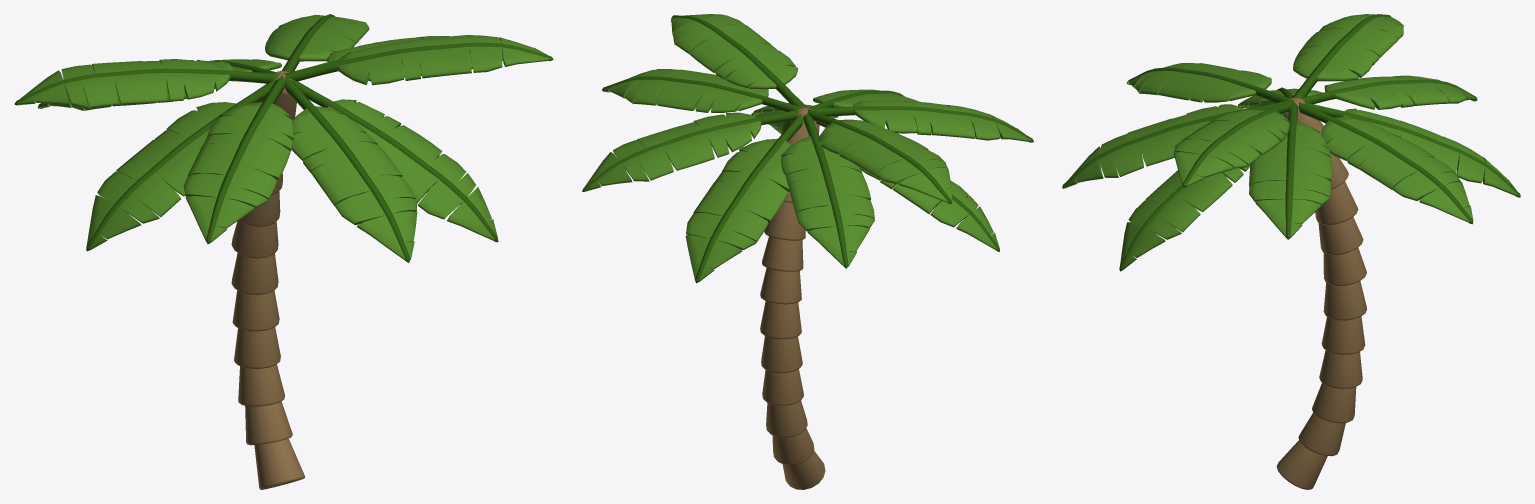
Rendered from palm-tree-1.obj.
The picture shows the model from 3 angles, left to right: view 1: azimuth 30°, elevation 25°; view 2: azimuth 150°, elevation 25°; view 3: azimuth 270°, elevation 25°; orthographic projection. The views are drawn at different scales.
Visible parts, largest first — view 1: Leaf_Cylinder.001, Leaf_Cylinder.005, Leaf_Cylinder.006, Leaf_Cylinder.007, Leaf_Cylinder.004, Leaf_Cylinder.002, Leaf_Cylinder.010, StemSegment.001_StemSegment_Cylinder.011, Core_Cylinder, StemSegment.002_StemSegment_Cylinder.012, StemSegment.003_StemSegment_Cylinder.013, Core_Cylinder.003 (+12 smaller); view 2: Leaf_Cylinder.009, Leaf_Cylinder.008, Leaf_Cylinder.010, Leaf_Cylinder.002, Leaf_Cylinder.007, Leaf_Cylinder.003, Leaf_Cylinder.005, Leaf_Cylinder.006, Core_Cylinder.008, StemSegment.006_StemSegment_Cylinder.016, StemSegment.005_StemSegment_Cylinder.015, StemSegment.007_StemSegment_Cylinder.017 (+13 smaller); view 3: Leaf_Cylinder.010, Leaf_Cylinder.003, Leaf_Cylinder.002, Leaf_Cylinder.004, Leaf_Cylinder.007, Leaf_Cylinder.001, Leaf_Cylinder.005, Leaf_Cylinder.008, Leaf_Cylinder.009, StemSegment.001_StemSegment_Cylinder.011, StemSegment.006_StemSegment_Cylinder.016, StemSegment.005_StemSegment_Cylinder.015 (+14 smaller).
Part boxes in pixels (box(x1,y1,x2,y2)): Leaf_Cylinder.001: box(291, 106, 417, 260); Leaf_Cylinder.005: box(183, 102, 294, 242); Leaf_Cylinder.006: box(86, 102, 236, 250); Leaf_Cylinder.007: box(17, 59, 230, 108); Leaf_Cylinder.004: box(327, 99, 497, 241); Leaf_Cylinder.002: box(336, 35, 551, 85); Leaf_Cylinder.010: box(265, 15, 369, 61); StemSegment.001_StemSegment_Cylinder.011: box(254, 438, 304, 489); Core_Cylinder: box(284, 76, 410, 262); StemSegment.002_StemSegment_Cylinder.012: box(245, 401, 292, 445); StemSegment.003_StemSegment_Cylinder.013: box(238, 364, 284, 406); Core_Cylinder.003: box(291, 79, 498, 242); Leaf_Cylinder.009: box(685, 138, 790, 281); Leaf_Cylinder.008: box(781, 135, 874, 266); Leaf_Cylinder.010: box(584, 112, 761, 191); Leaf_Cylinder.002: box(671, 14, 798, 89); Leaf_Cylinder.007: box(819, 119, 952, 202); Leaf_Cylinder.003: box(602, 69, 768, 112); Leaf_Cylinder.005: box(853, 100, 1032, 142); Leaf_Cylinder.006: box(859, 167, 999, 250); Core_Cylinder.008: box(695, 107, 807, 283); StemSegment.006_StemSegment_Cylinder.016: box(760, 301, 801, 339); StemSegment.005_StemSegment_Cylinder.015: box(761, 336, 802, 373); StemSegment.007_StemSegment_Cylinder.017: box(760, 268, 801, 304); Leaf_Cylinder.010: box(1321, 117, 1473, 222); Leaf_Cylinder.003: box(1249, 122, 1332, 237); Leaf_Cylinder.002: box(1173, 109, 1290, 186); Leaf_Cylinder.004: box(1120, 165, 1250, 269); Leaf_Cylinder.007: box(1293, 14, 1403, 81); Leaf_Cylinder.001: box(1063, 104, 1241, 188); Leaf_Cylinder.005: box(1126, 63, 1271, 102); Leaf_Cylinder.008: box(1324, 75, 1477, 109); Leaf_Cylinder.009: box(1342, 108, 1519, 196); StemSegment.001_StemSegment_Cylinder.011: box(1276, 440, 1327, 489); StemSegment.006_StemSegment_Cylinder.016: box(1323, 281, 1366, 320); StemSegment.005_StemSegment_Cylinder.015: box(1321, 316, 1365, 354).
Bounding box in the file's own units: 3.28 × 3.12 × 3.16.
